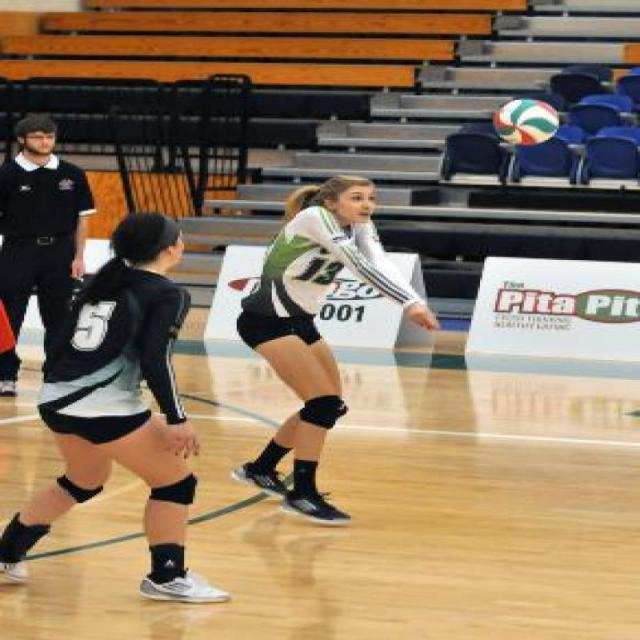volleyball: (498, 92, 566, 146)
